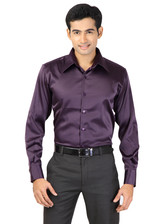clothoes: (19, 53, 144, 191)
other: (50, 142, 116, 159)
